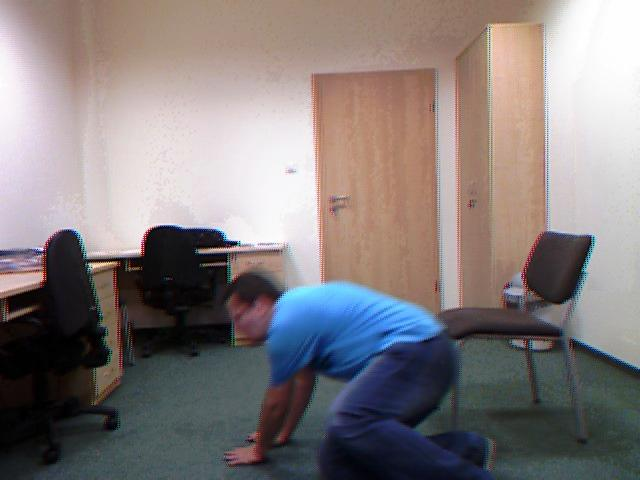fall: (211, 260, 498, 480)
